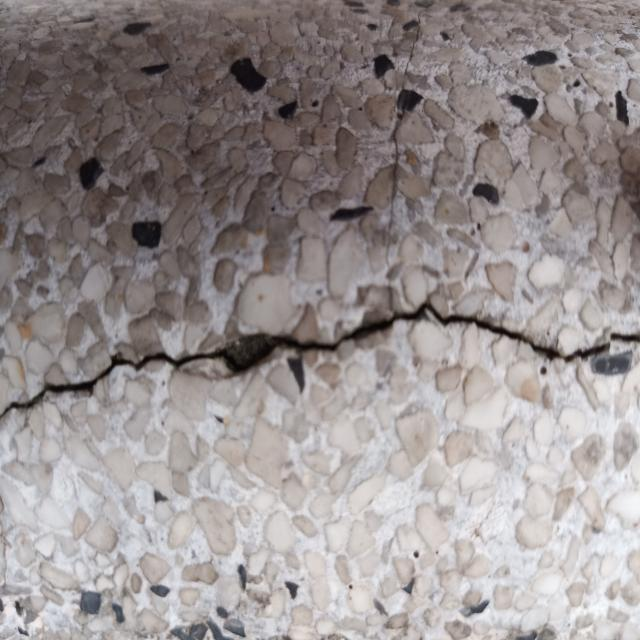horizontal crack: (0, 305, 639, 417)
